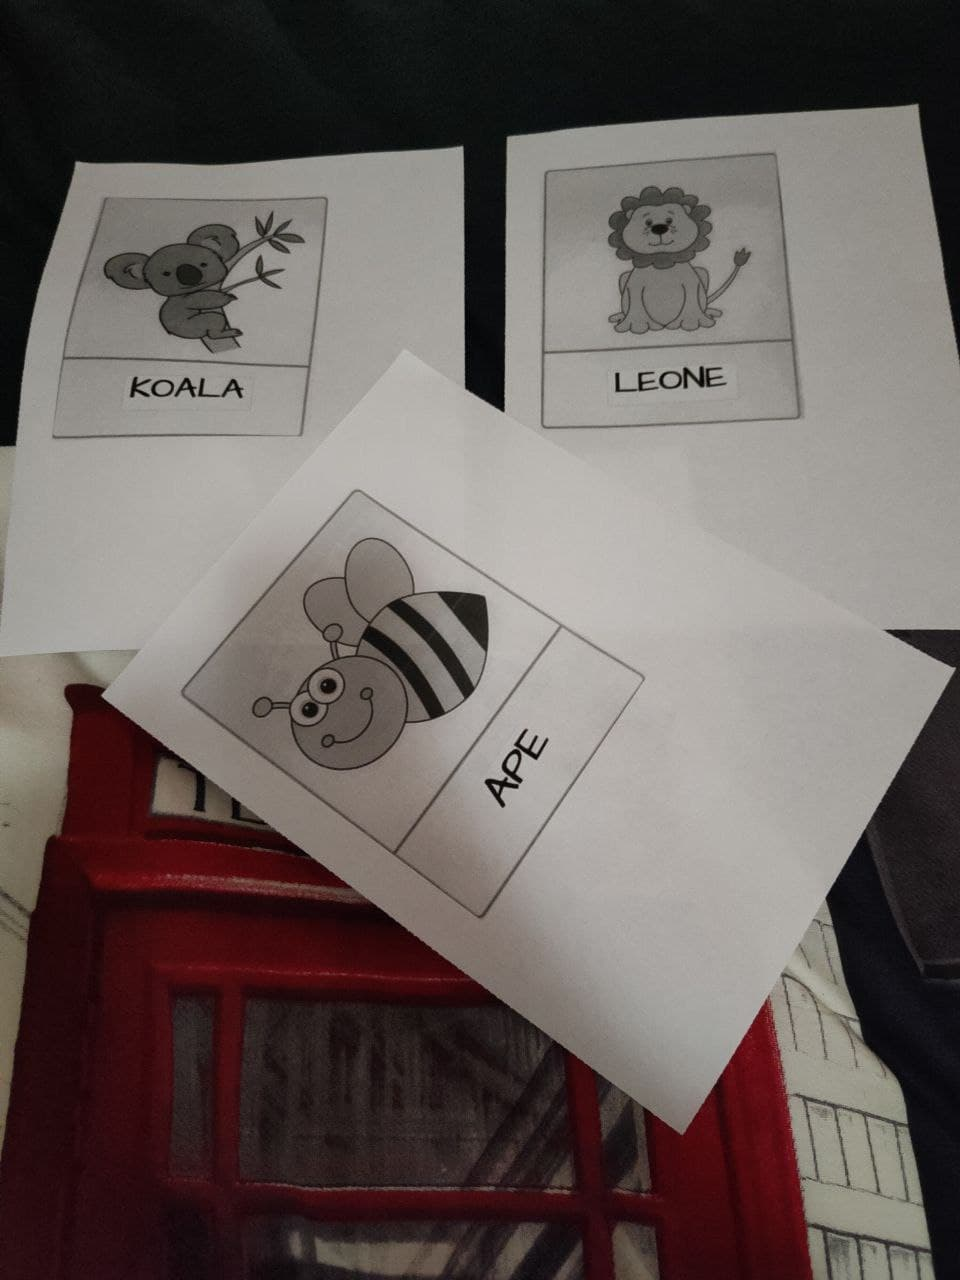ape: (264, 532, 561, 824)
koala: (100, 197, 323, 433)
leone: (565, 176, 797, 421)
